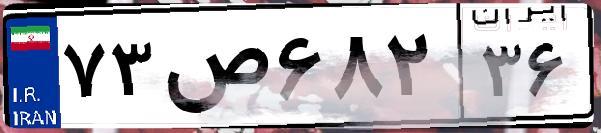2: (385, 28, 445, 110)
3: (475, 38, 525, 113), (110, 28, 158, 98)
6: (270, 28, 330, 110), (525, 38, 570, 115)
7: (57, 26, 110, 100)
8: (330, 28, 385, 110)
ص: (158, 20, 270, 120)
